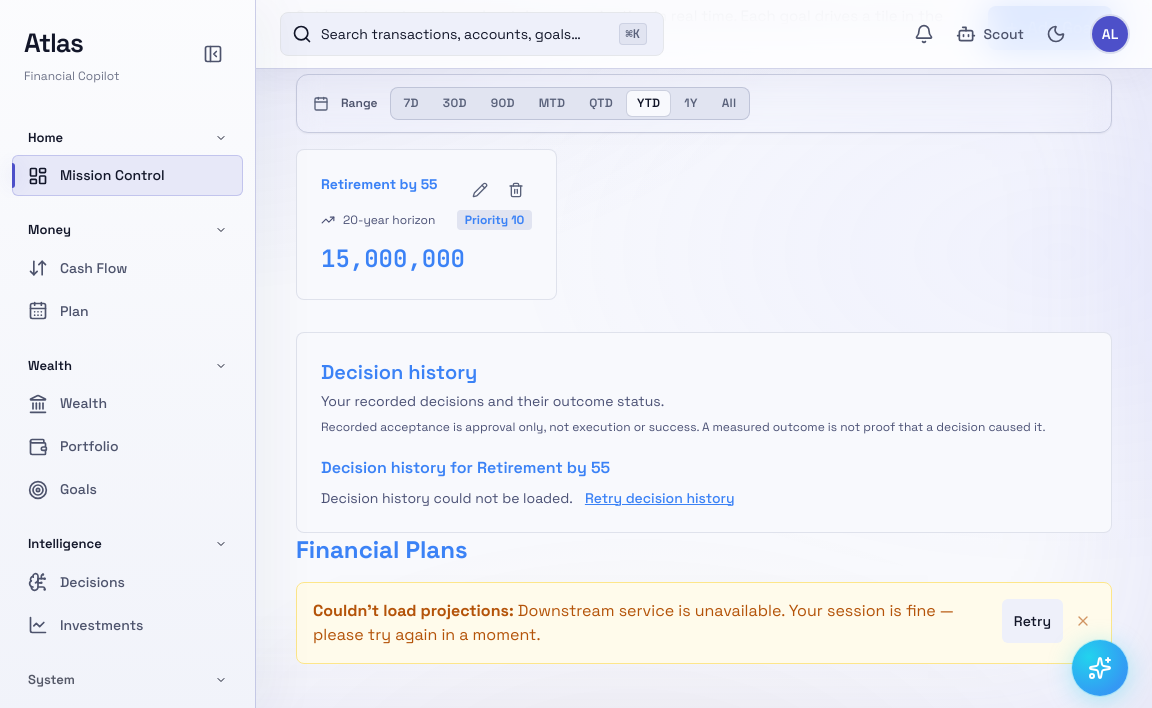
it: GoalsPage — Phase F2 #2 error isolation › clears inline projection banner and renders goals tile when dashboard Retry recovers
(page scrolled)
Check: the text "Couldn't load projections:" is shown, box [313,600,514,621]
Click the button "Retry": coordinates (1032, 621) [1002,599,1063,643]
(page scrolled)
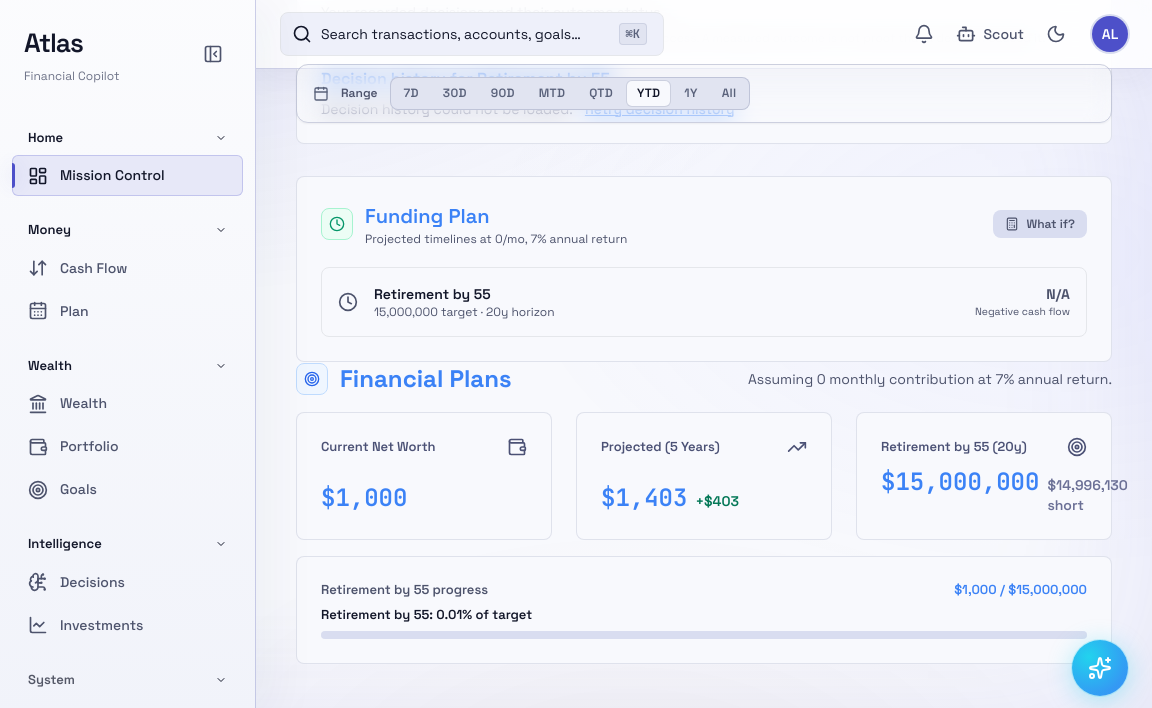
Check: the element with test id "goal-tile-1" is shown, box [856,412,1112,540]
Check: the text "Couldn't load projections:" is gone
